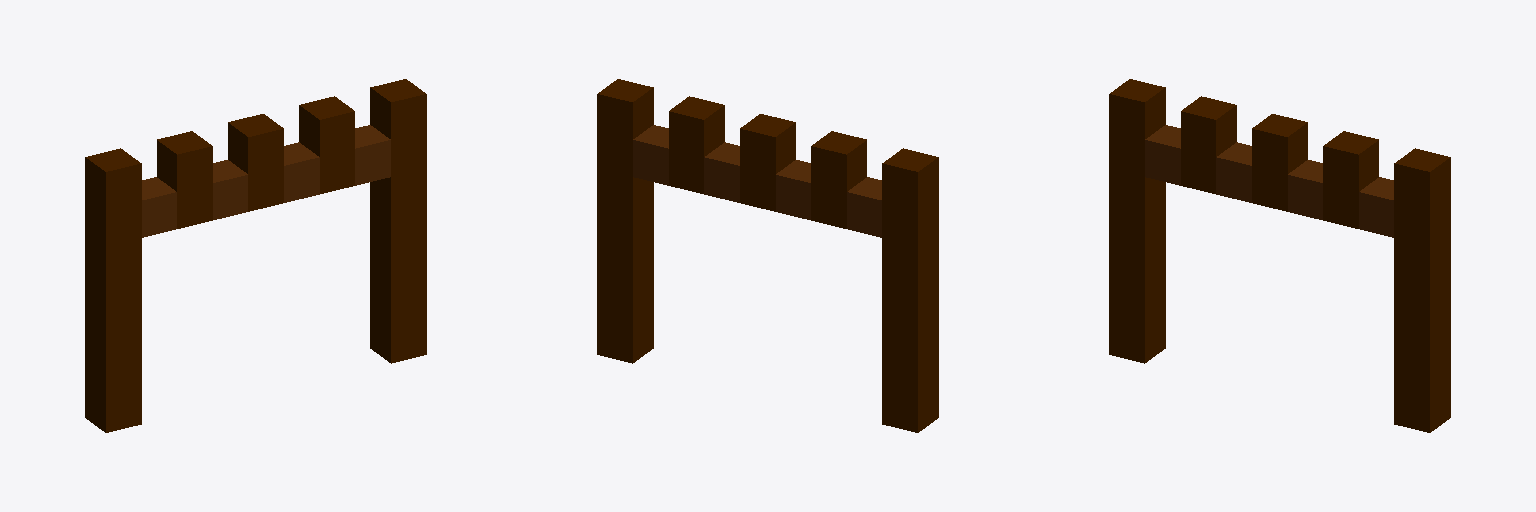
3 views of the same model, side by side, from view 1: azimuth 30°, elevation 25°; view 2: azimuth 150°, elevation 25°; view 3: azimuth 330°, elevation 25° (orthographic).
Visible parts, largest first — view 1: object 1; view 2: object 1; view 3: object 1.
Boxes of the visible parts, box(x1,y1,x2,y2) form: object 1: box(85, 79, 426, 432); object 1: box(597, 79, 938, 432); object 1: box(1109, 79, 1450, 432).
Bounding box in the file's own units: 0.9 × 0.7 × 0.1.
1 materials, 1 textured.